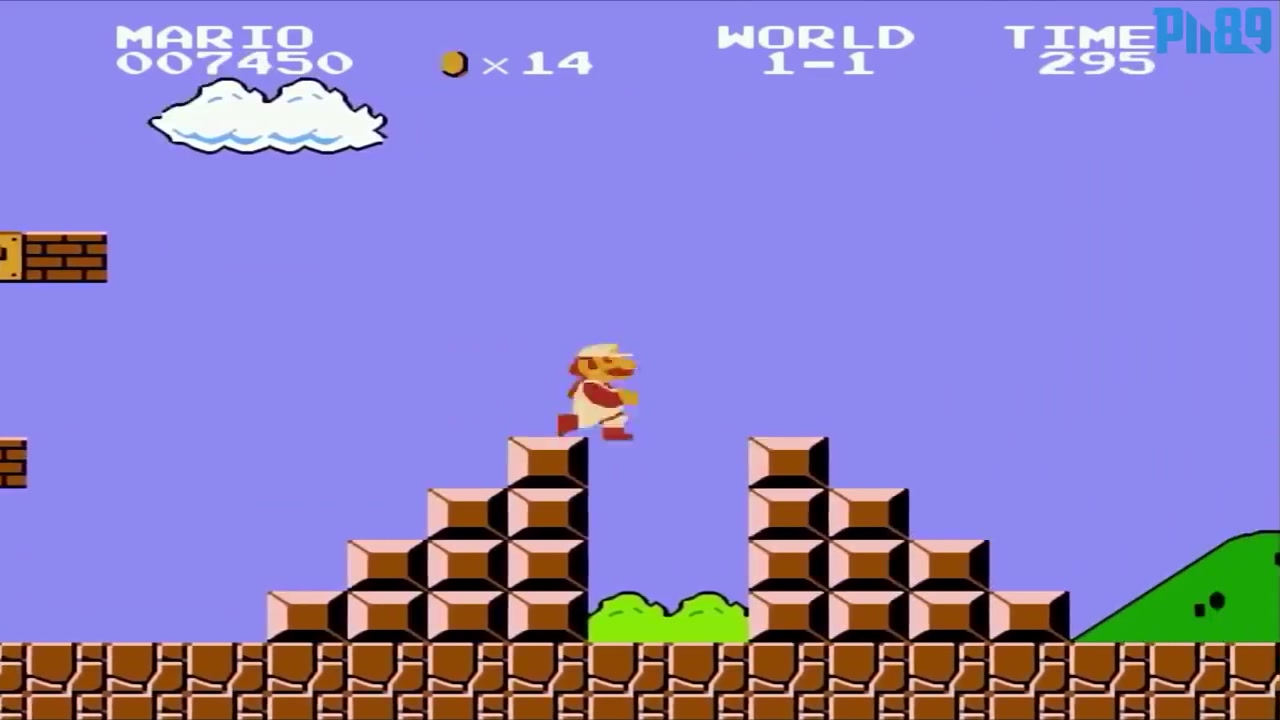mario: (557, 330, 637, 443)
